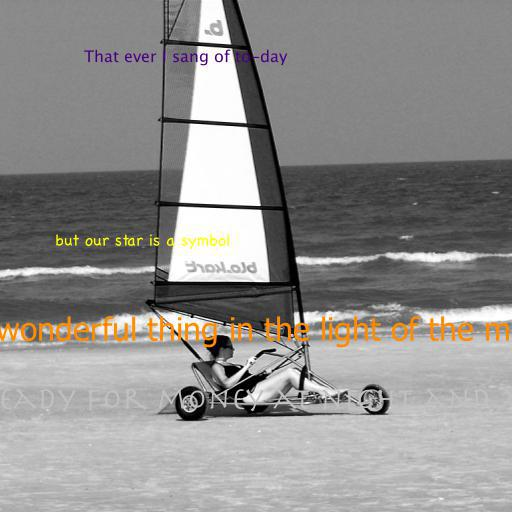Chalkboard: (55, 234, 231, 250)
Herculanum: (0, 388, 512, 412)
Lucida Grande: (83, 49, 287, 66)
Tahoma: (0, 316, 512, 348)
